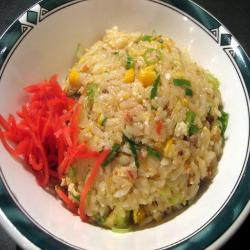rice: (66, 31, 233, 238)
